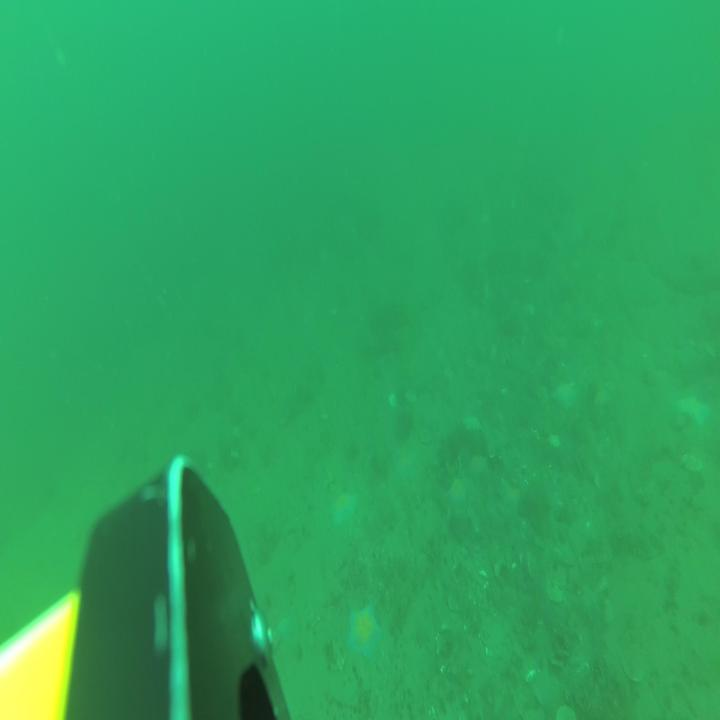holothurian: (606, 525, 655, 565)
scallop: (620, 648, 646, 683), (544, 577, 569, 605), (682, 450, 706, 475), (327, 644, 345, 673), (556, 702, 576, 720)
starfish: (343, 599, 385, 660), (676, 387, 712, 433), (328, 490, 360, 529), (444, 474, 470, 516), (548, 378, 578, 412)
